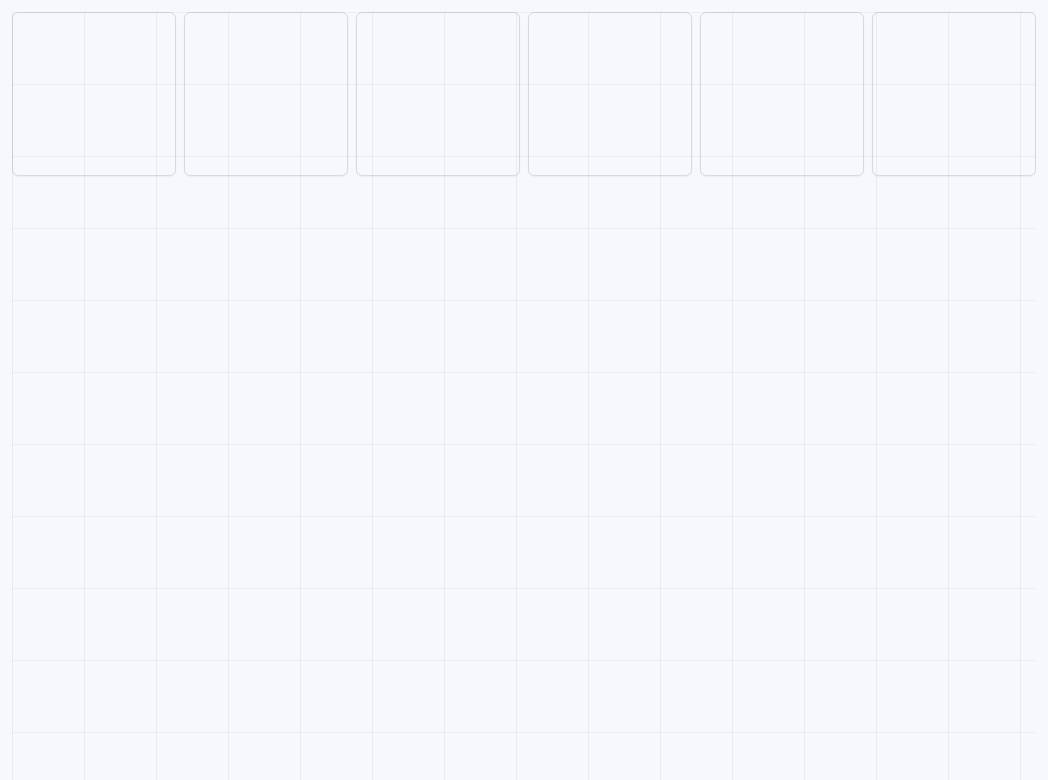
Scenario: OtpInput › accepts pasted digits and does not shift later digits on a middle edit
The image size is (1048, 780).
Click the field named "Digit 1": (94, 94) [12, 12, 176, 176]
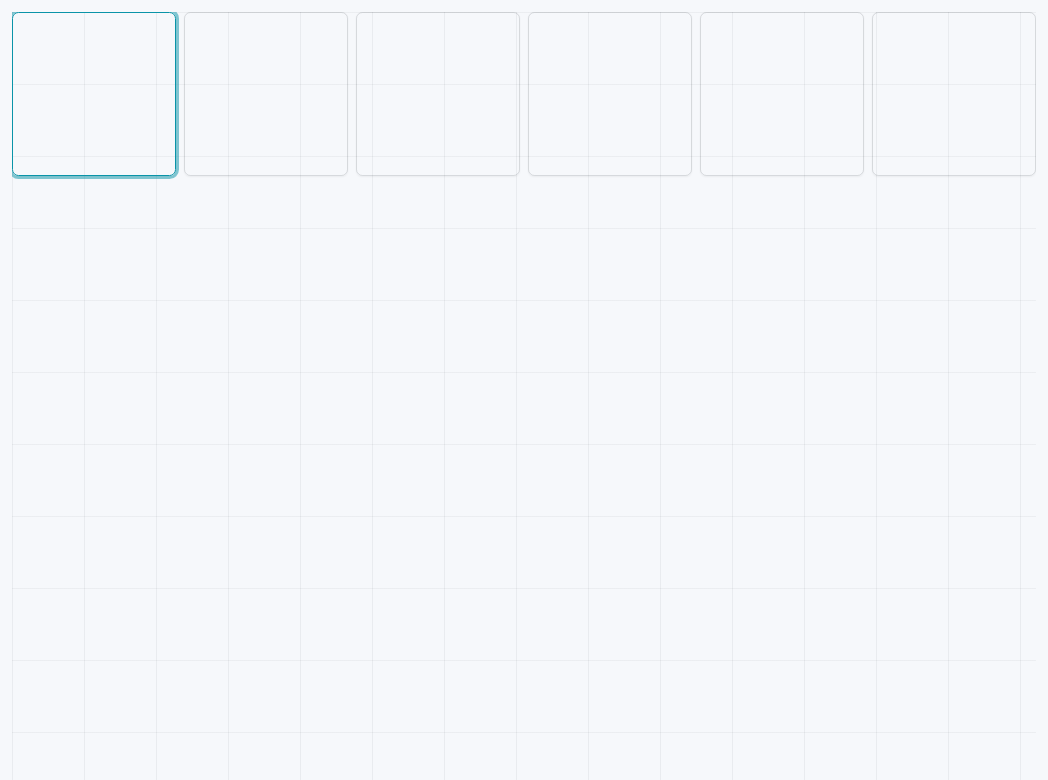
Type keys "482913"
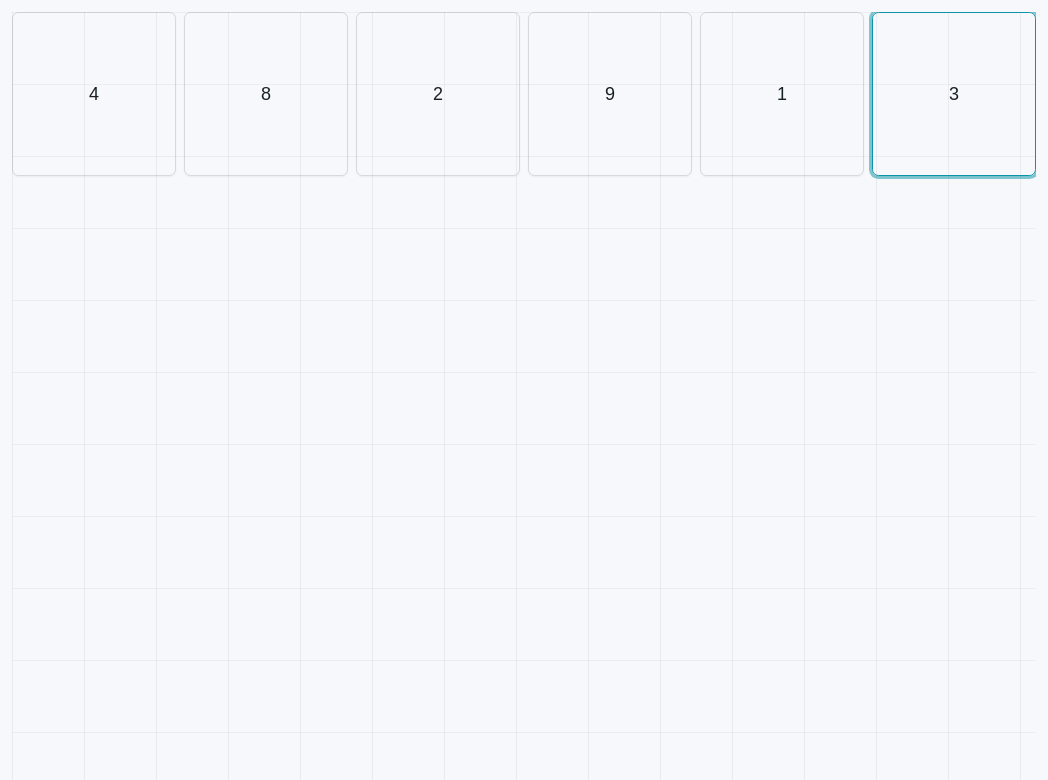
Click the field named "Digit 3": (438, 94) [356, 12, 520, 176]
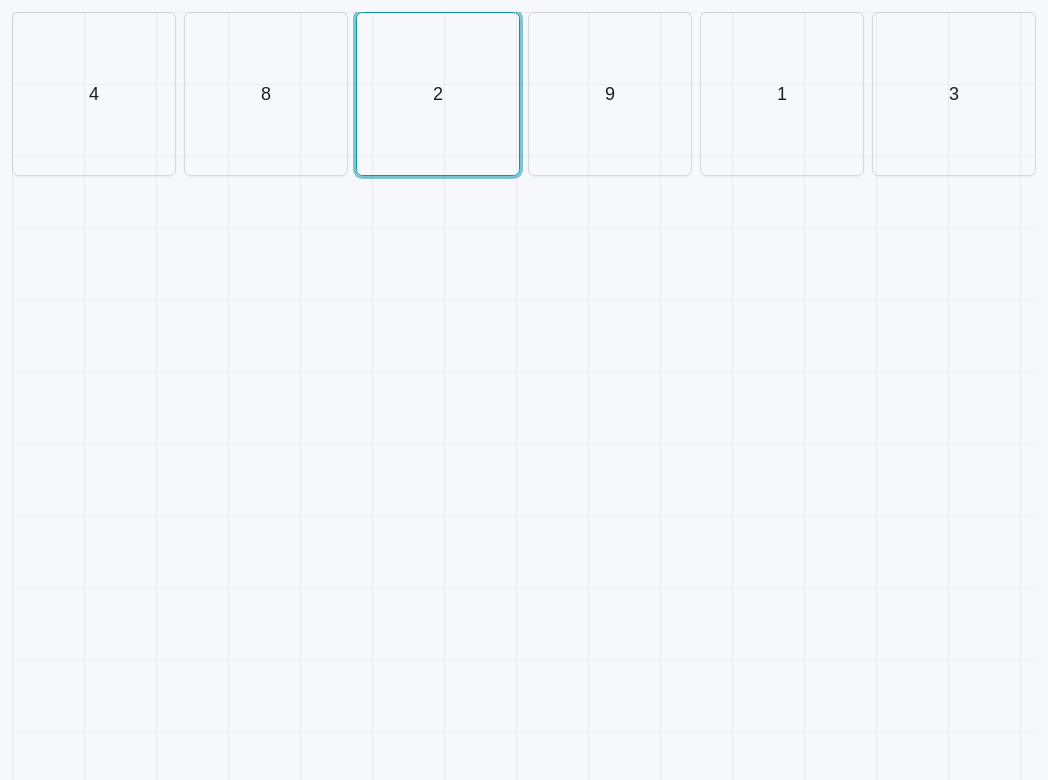
Press Backspace
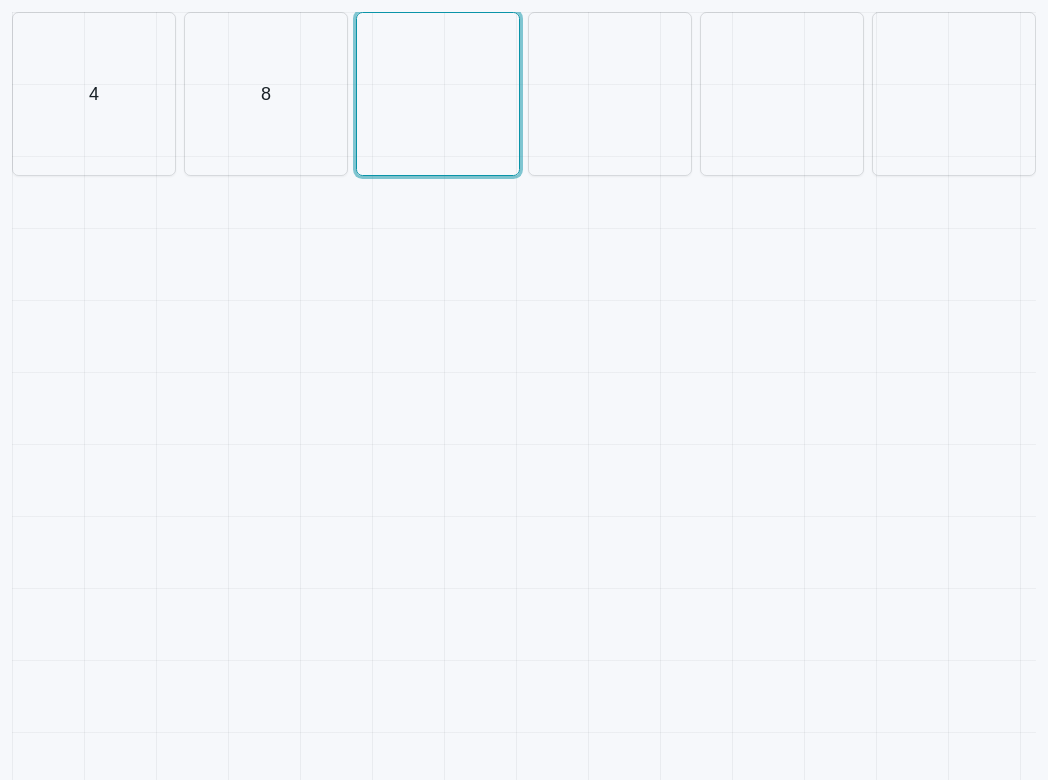
Result: the field named "Digit 1" holds "4" at [12, 12, 176, 176]
Result: the field named "Digit 2" holds "8" at [184, 12, 348, 176]
Result: the field named "Digit 3" is empty at [356, 12, 520, 176]
